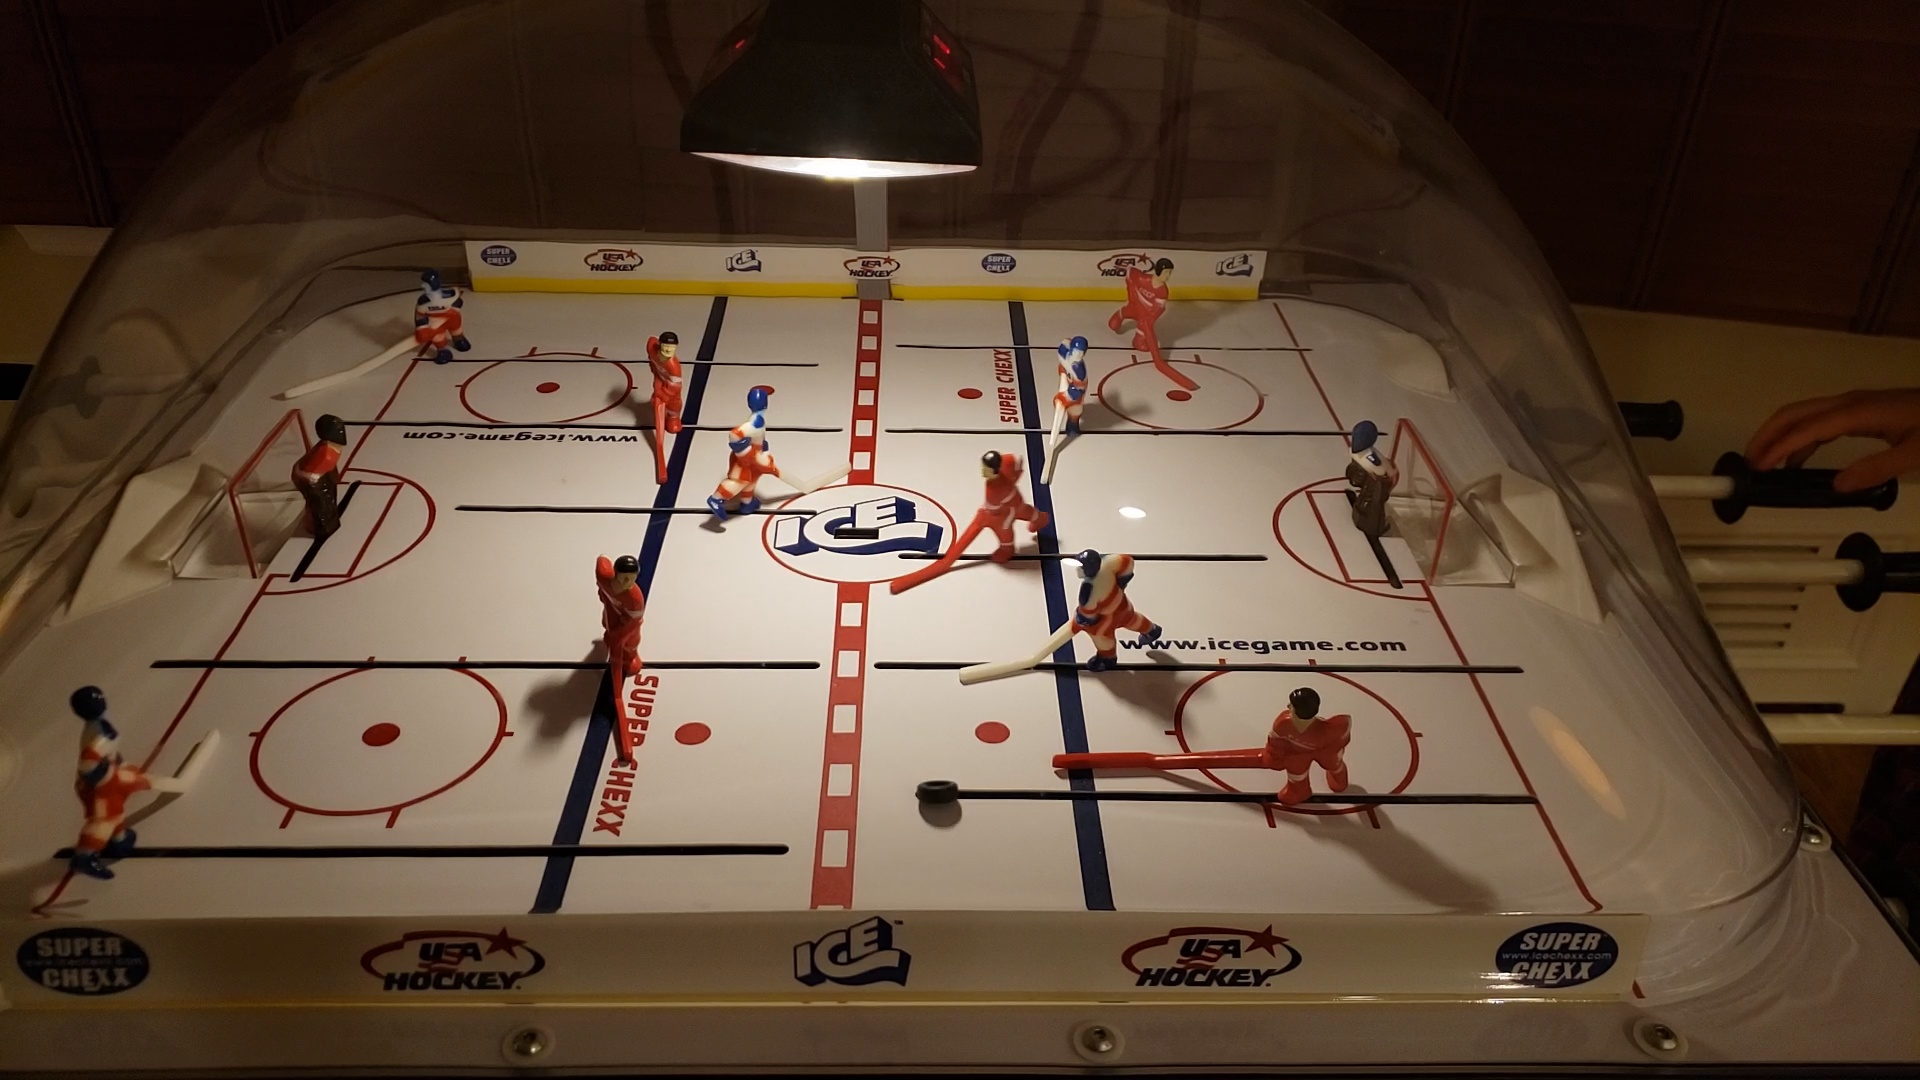puck: (911, 774, 971, 812)
